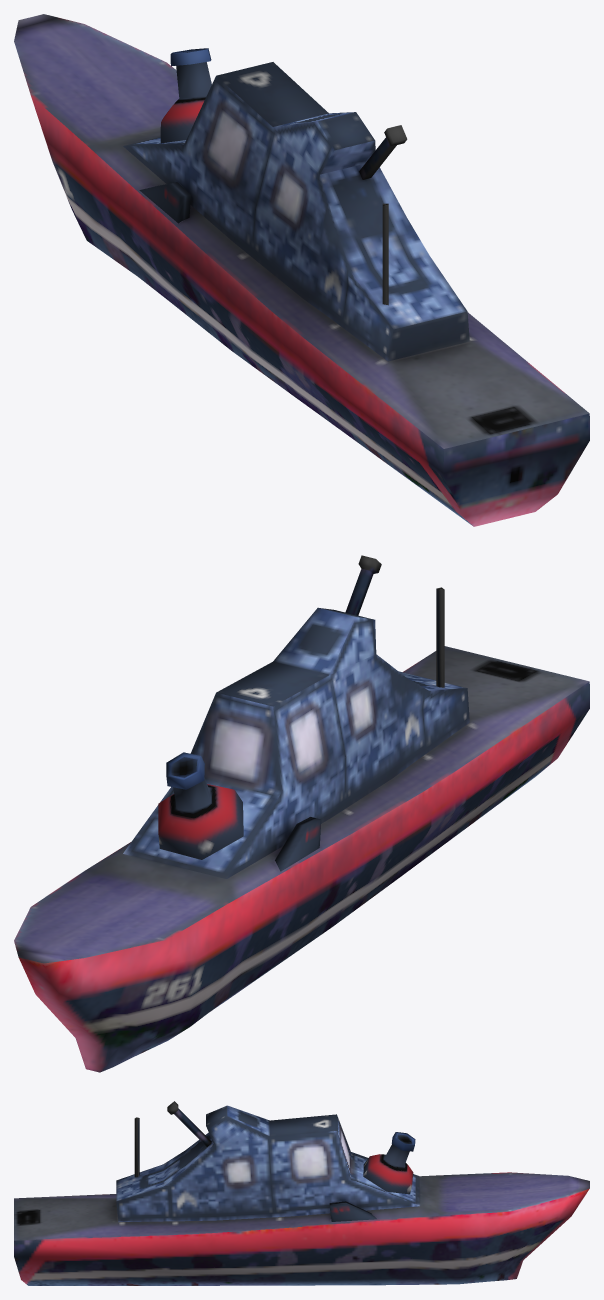
File: twodeck_lp_lod.fbx
3 views of the same model, one above another, from view 1: azimuth 30°, elevation 25°; view 2: azimuth 150°, elevation 25°; view 3: azimuth 270°, elevation 25° (orthographic). The views are drawn at different scales.
Parts seen in each view (by area): view 1: ddeck_LOD0, ddeckgun_LOD0; view 2: ddeck_LOD0, ddeckgun_LOD0; view 3: ddeck_LOD0, ddeckgun_LOD0.
Boxes of the visible parts, bbox=[...] form: ddeck_LOD0: bbox=[14, 14, 589, 526]; ddeckgun_LOD0: bbox=[160, 48, 211, 143]; ddeck_LOD0: bbox=[14, 555, 589, 1072]; ddeckgun_LOD0: bbox=[158, 752, 243, 859]; ddeck_LOD0: bbox=[14, 1101, 589, 1285]; ddeckgun_LOD0: bbox=[363, 1132, 415, 1194].
Size of what is drawn, in the model's own units: 14.66 by 27.56 by 81.02.
